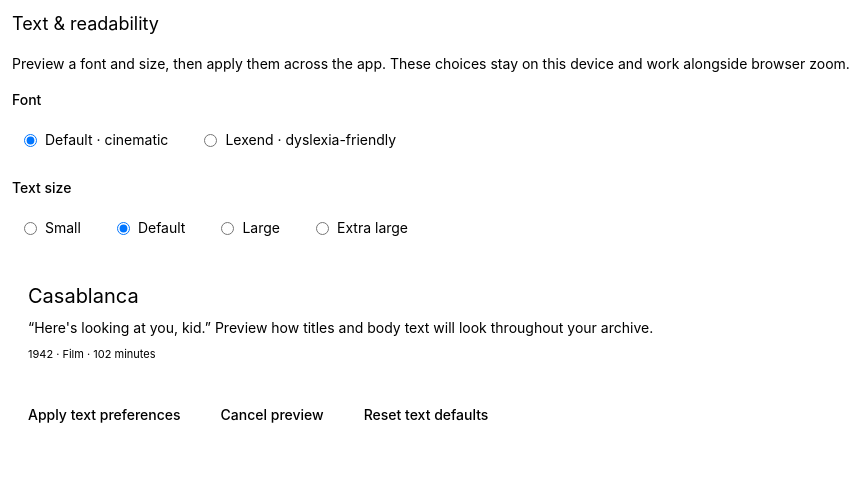
Test: text preference preview › discards stale drafts on another tab update and stages reset until Apply
This screenshot has width=866, height=479.
Click the radio button labelled "Small" at [30, 228], box [24,222,37,234]
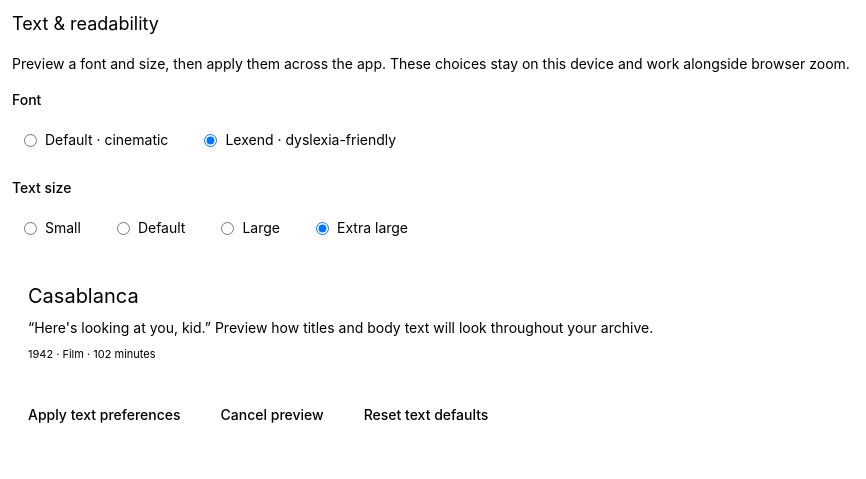
Expected: the radio button labelled "Extra large" is checked, [316,222,329,234]
Click the button "Reset text defaults" at [426, 414], box [348,394,504,434]
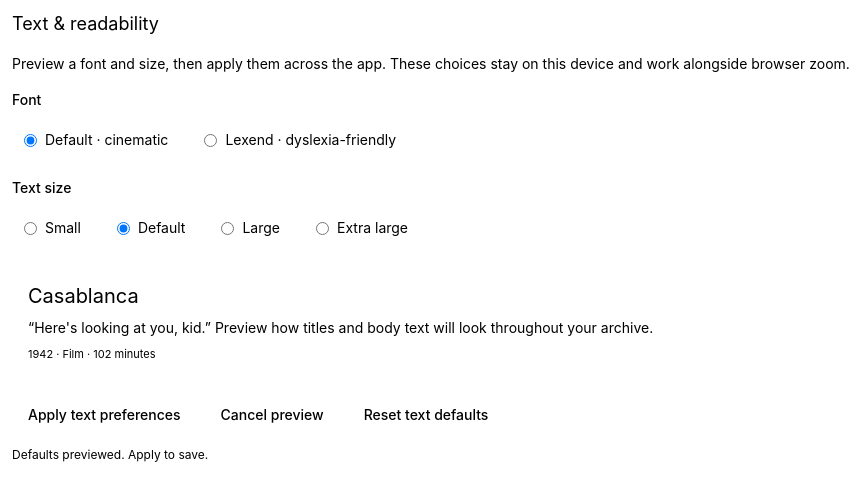
Click the button "Apply text preferences" at [104, 414], box [12,394,197,434]
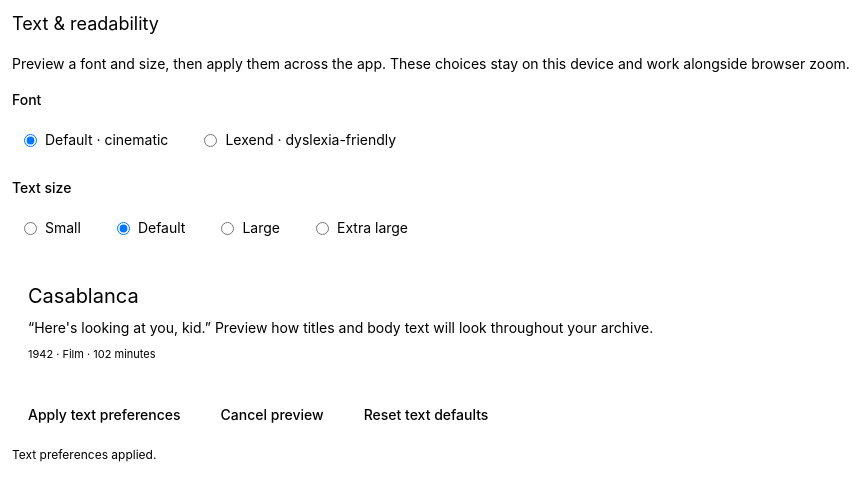
Expected: the message reads "Text preferences applied.", [12,446,156,462]
